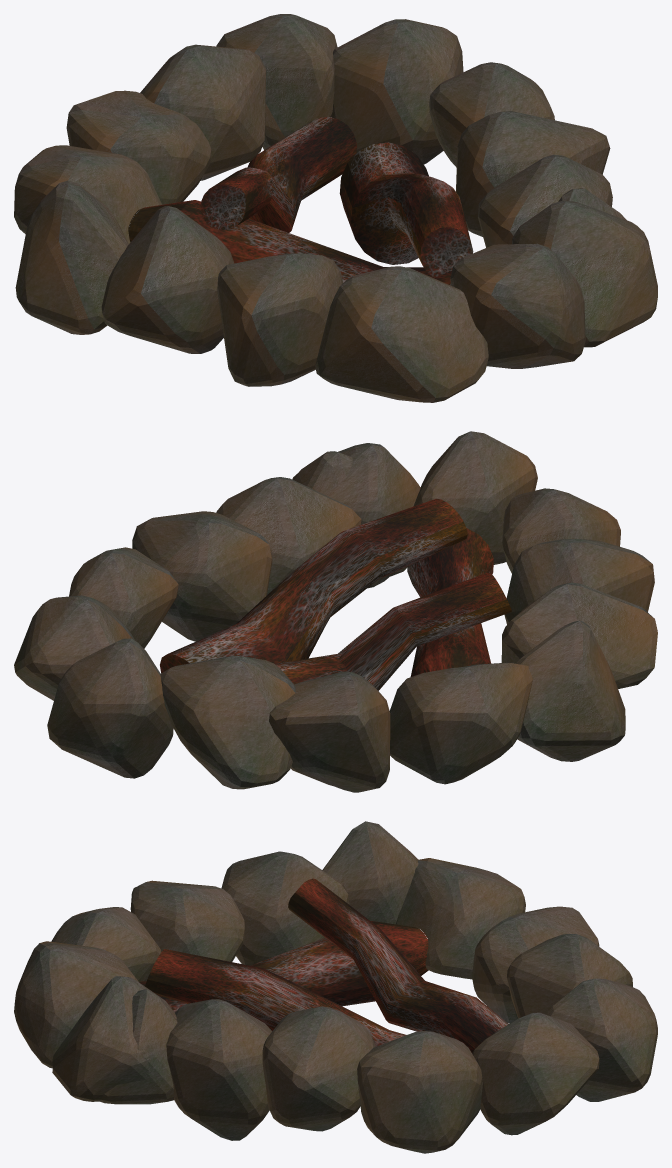
The model's file is Fireplace.fbx.
The picture shows the model from 3 angles, top to bottom: view 1: azimuth 30°, elevation 25°; view 2: azimuth 150°, elevation 25°; view 3: azimuth 270°, elevation 25°; orthographic projection. The views are drawn at different scales.
Visible parts, largest first — view 1: Fireplace_LOD0; view 2: Fireplace_LOD0; view 3: Fireplace_LOD0.
Boxes of the visible parts, x1,y1,x2,y2 form: Fireplace_LOD0: (14,14,657,402); Fireplace_LOD0: (14,431,657,792); Fireplace_LOD0: (14,821,657,1153).
Size of what is drawn, in the model's own units: 765 by 221 by 886.
